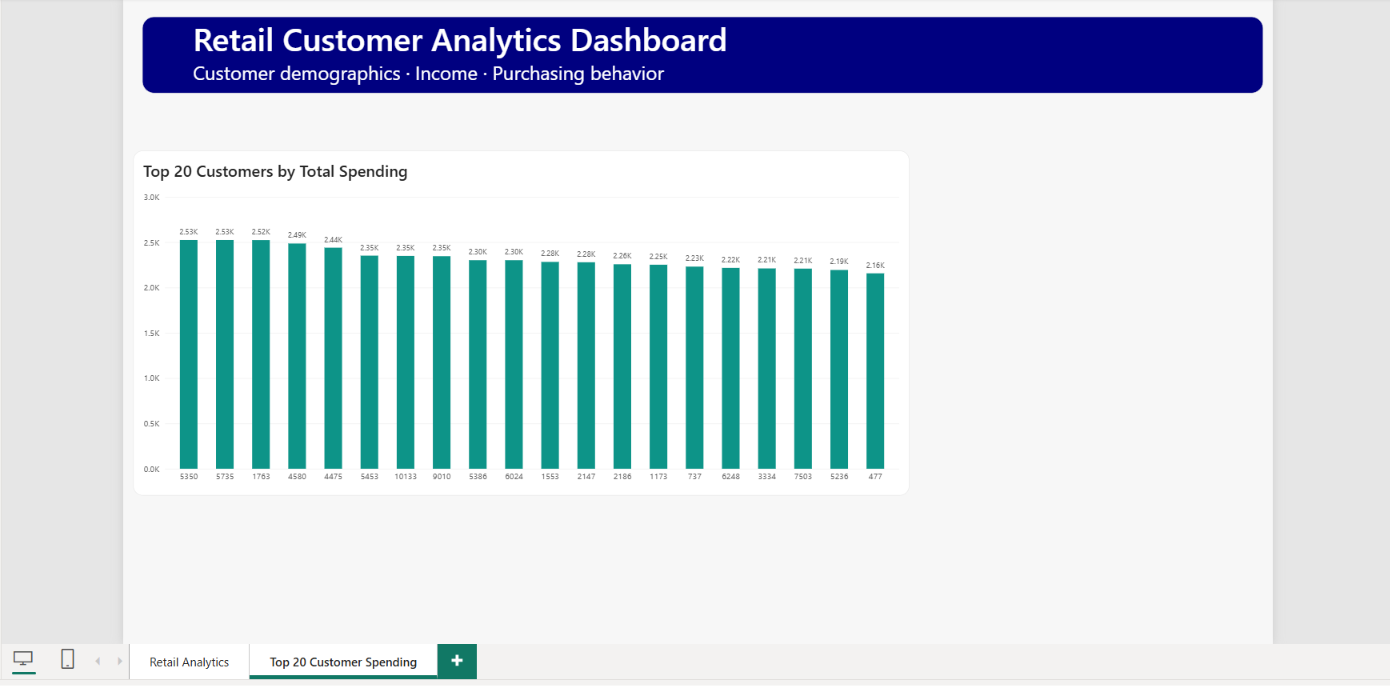

This screenshot's page, from the dashboard's own definition file:
{"tool":"powerbi","page":{"name":"Top 20 Customer Spending","canvas":[1920,1080],"ordinal":1},"visuals":[{"type":"columnChart","title":"Top 20 Customers by Total Spending","fields":{"Category":["marketing_campaign.ID"],"Y":["marketing_campaign.TotalSpend"]},"box":[64,48,1296,576],"z":0}]}

Visuals, with their boxes on the page's 1920x1080 design canvas (x1, y1, x2, y2). These are canvas units, not pixel positions in the 1390x686 screenshot, which may show the page scaled, cropped or inside an application window:
"Top 20 Customers by Total Spending" columnChart: <region>64, 48, 1360, 624</region>
